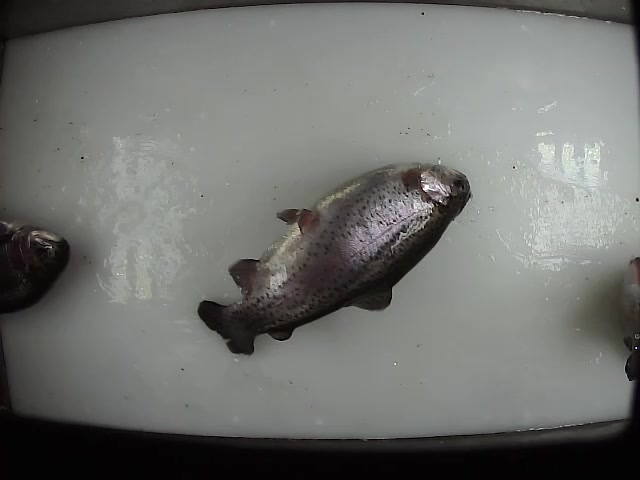Fish: (198, 162, 471, 355)
